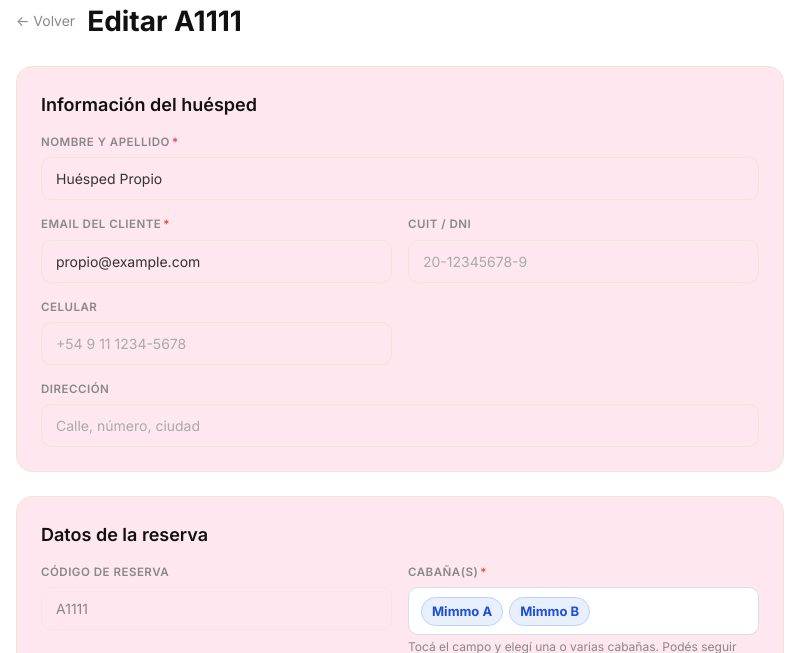
Test: ReservaForm.jsx — editar: la validación de superposición EXCLUYE a la propia reserva › agregar una cabaña que SÍ choca con una reserva de otra persona bloquea todo, all-or-nothing
Expected: the text "Mimmo A" is shown, [421, 597, 503, 626]
Click the button with test id "cabana-picker-trigger".
click(584, 611)  # box [408, 587, 759, 635]
(page scrolled)
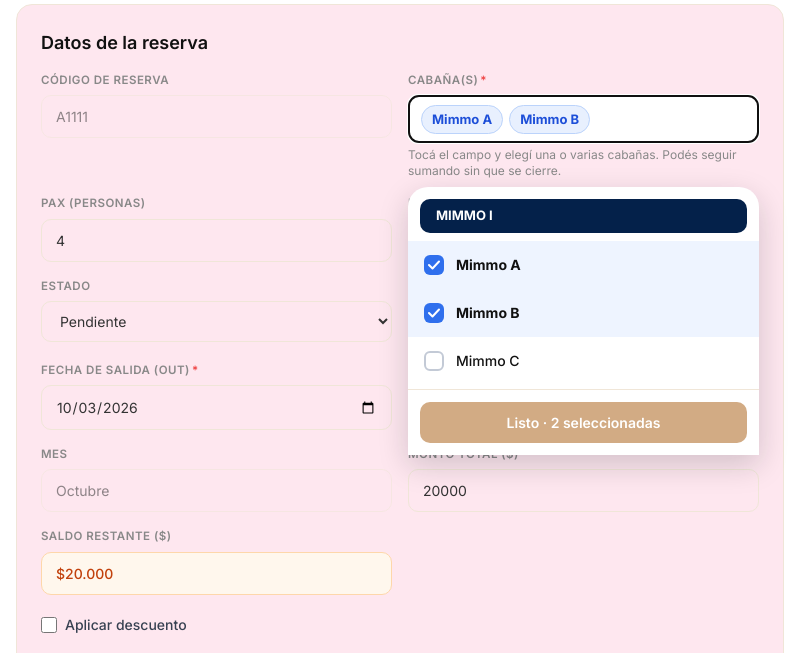
Click the button "Mimmo C".
click(488, 361)  # box [408, 337, 759, 385]
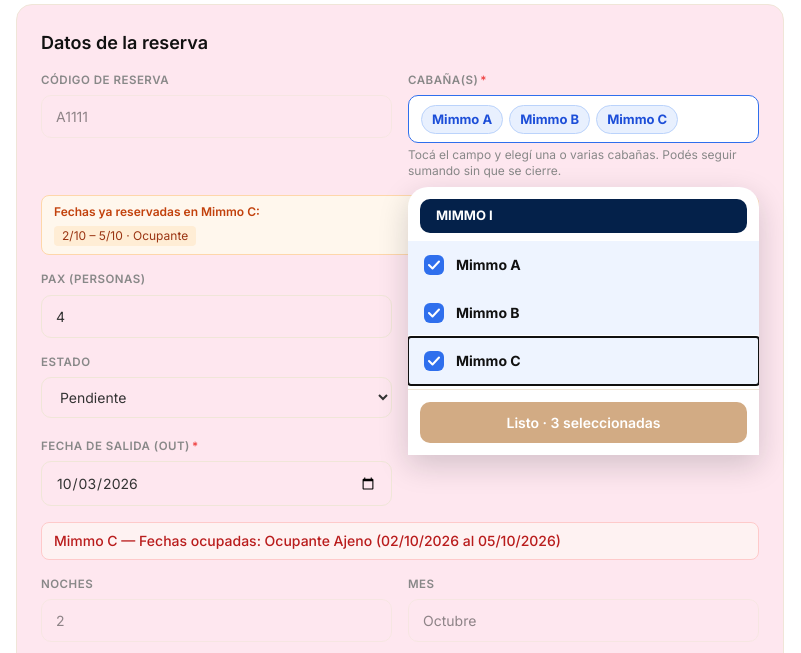
Click the button with test id "cabana-picker-listo".
click(584, 422)  # box [420, 402, 747, 443]
(page scrolled)
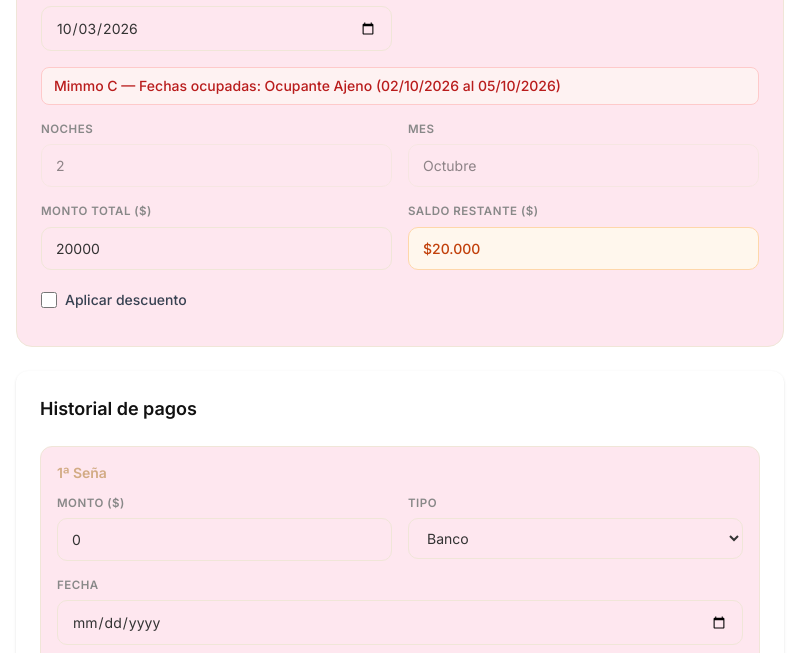
Submit the form with test id "cabana-picker-trigger"
(page scrolled)
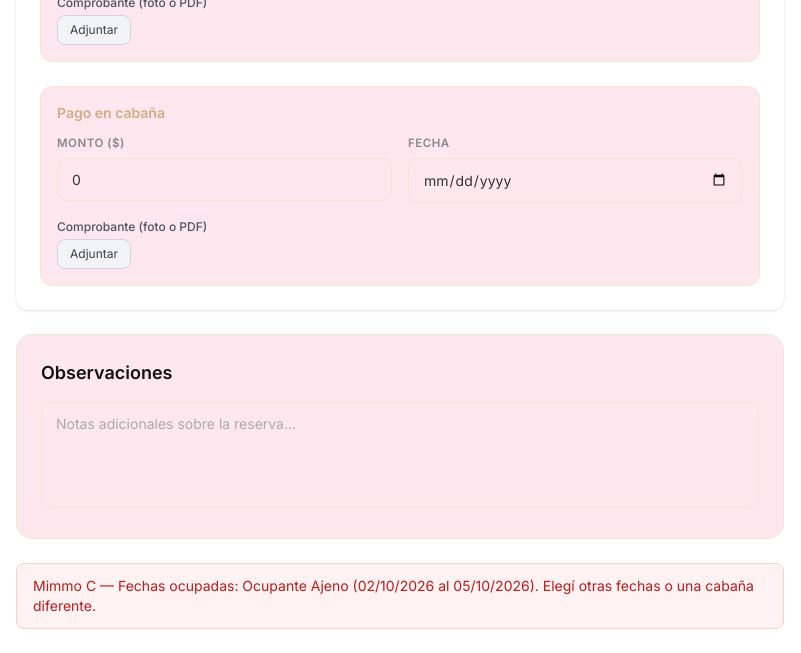
Result: the text with test id "reserva-form-error" is shown at [16, 563, 784, 629]
Result: the text with test id "reserva-form-error" shows "Mimmo C" at [33, 577, 754, 614]
Result: the text with test id "reserva-form-error" shows "Ocupante Ajeno" at [33, 577, 754, 614]
